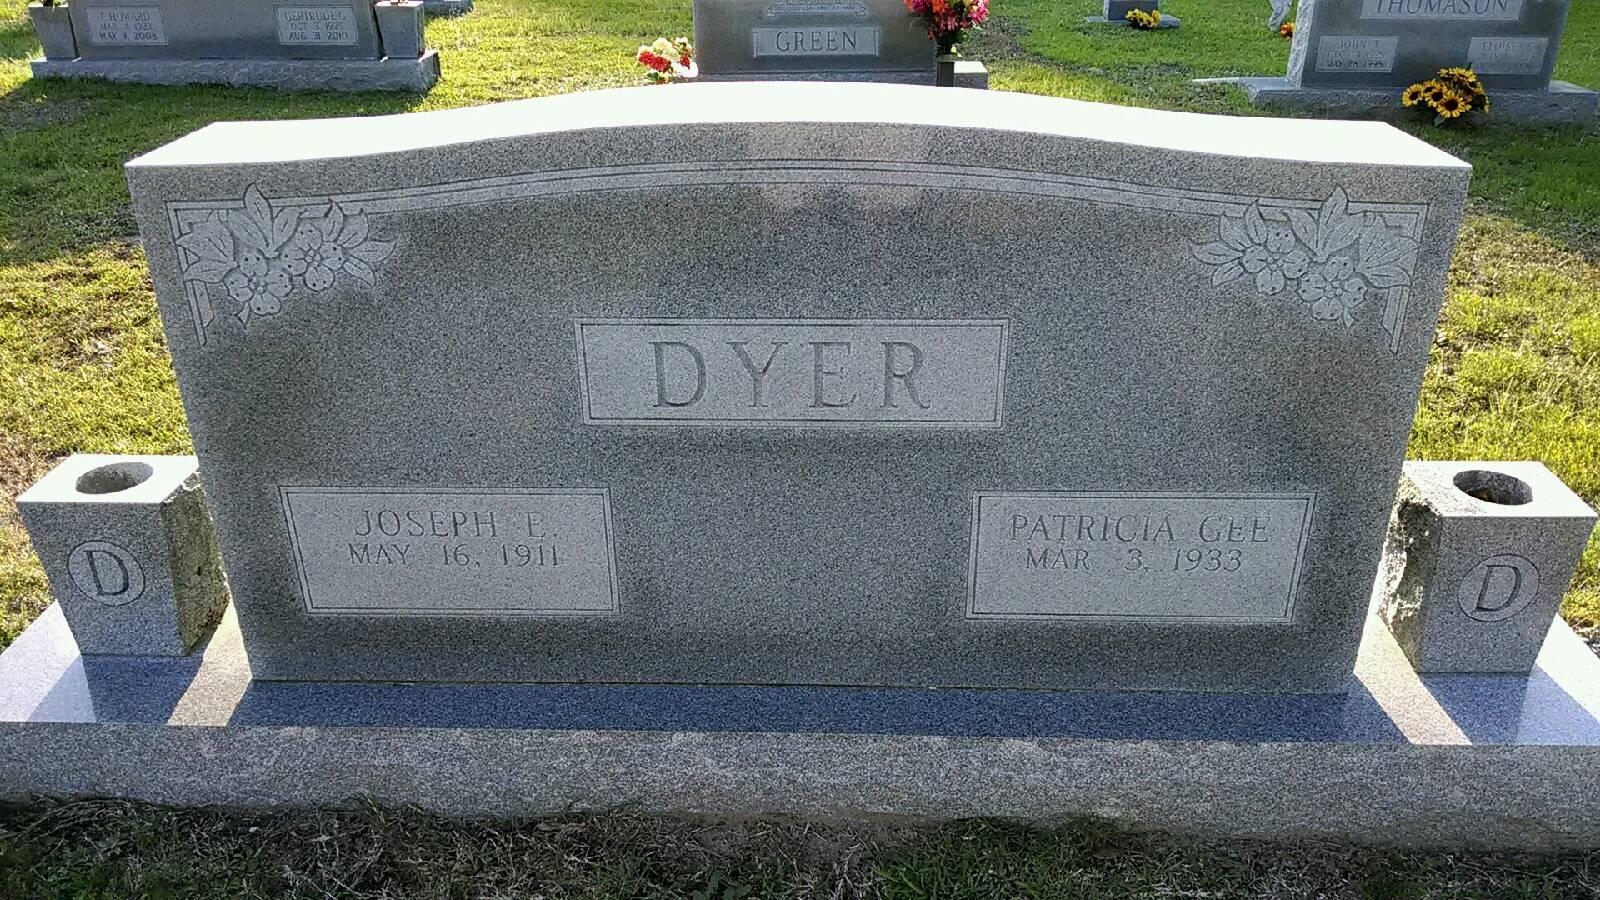upright: (0, 80, 1600, 816)
